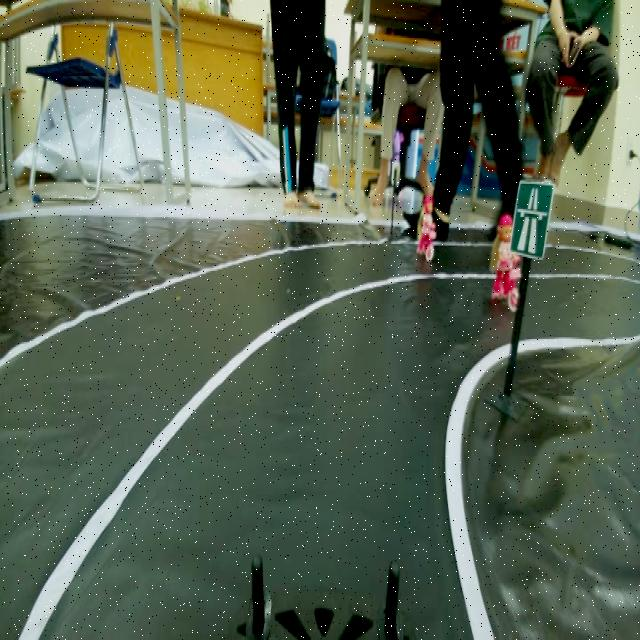highway_entry: (512, 175, 554, 261)
